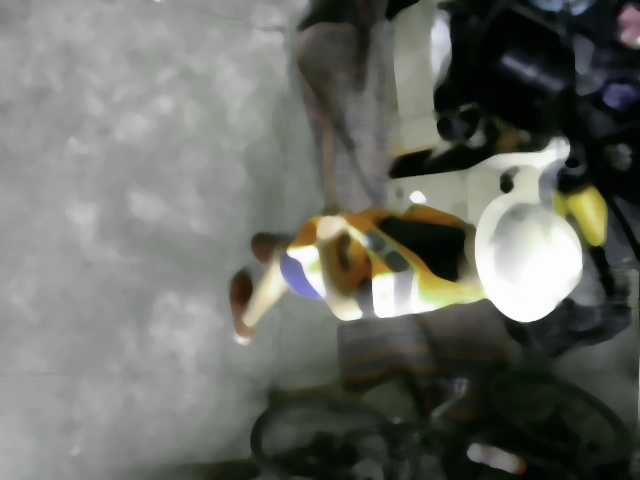one: (554, 274, 583, 302)
